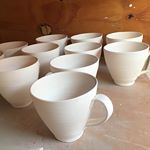cups: (28, 68, 116, 144), (103, 40, 150, 87), (1, 54, 40, 110)
